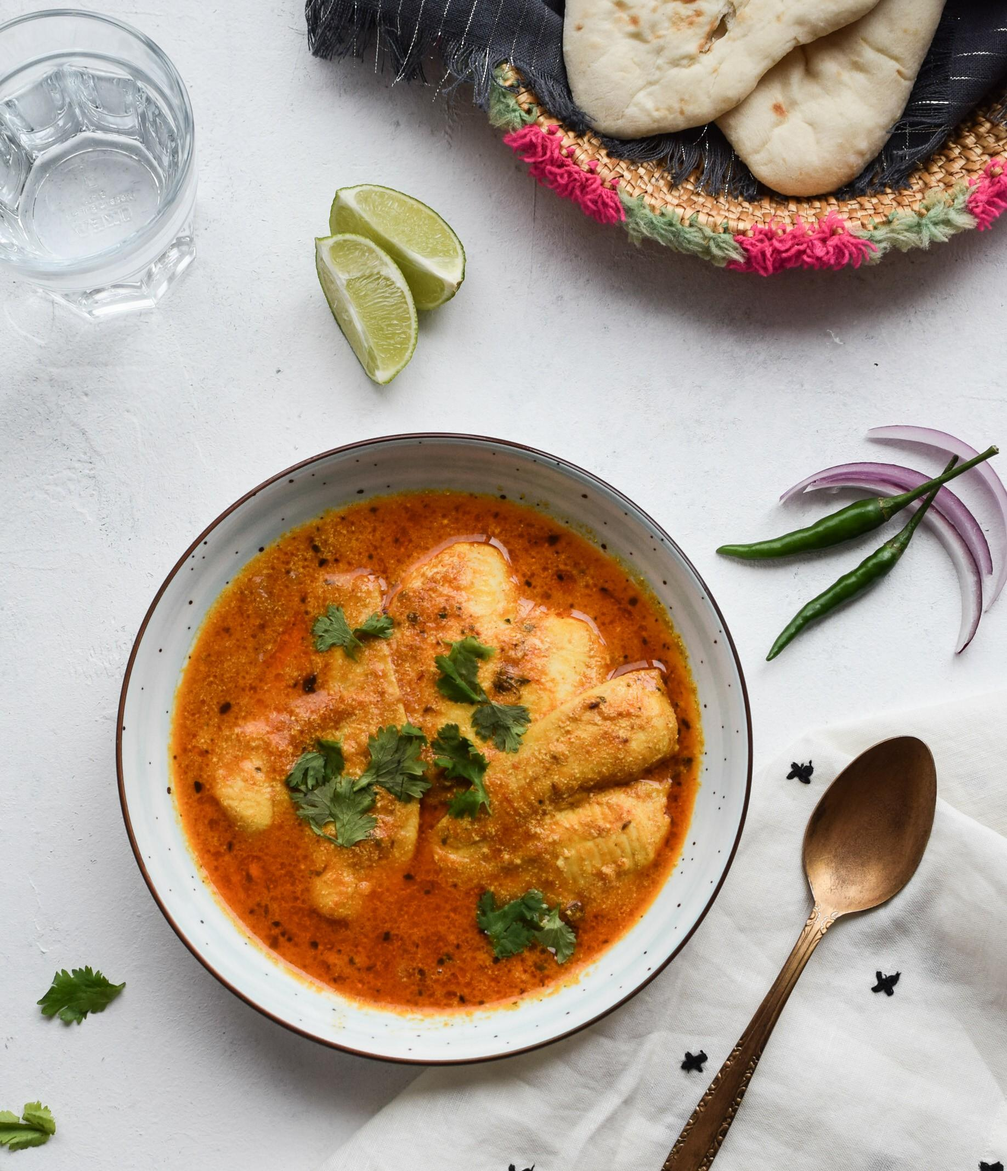FishCurry: (175, 492, 703, 1015)
